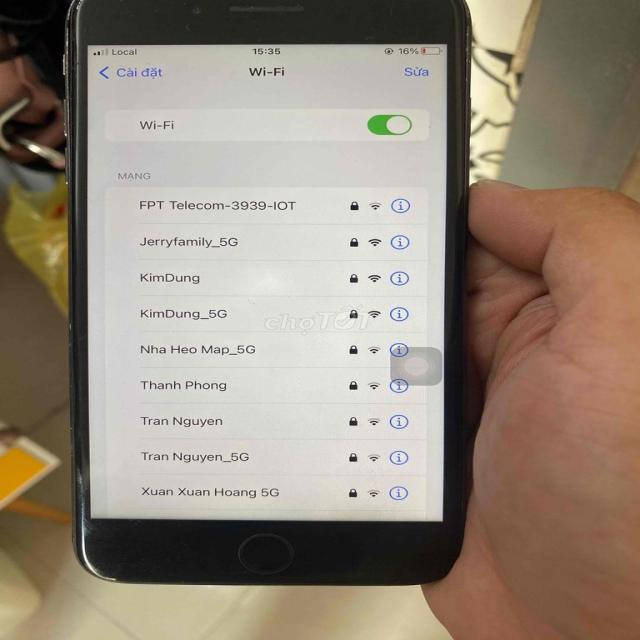scratch: (74, 461, 115, 583), (458, 15, 473, 104), (69, 0, 91, 20)
